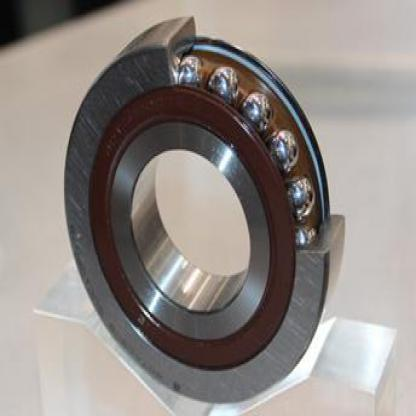FOD: (57, 10, 346, 408)
